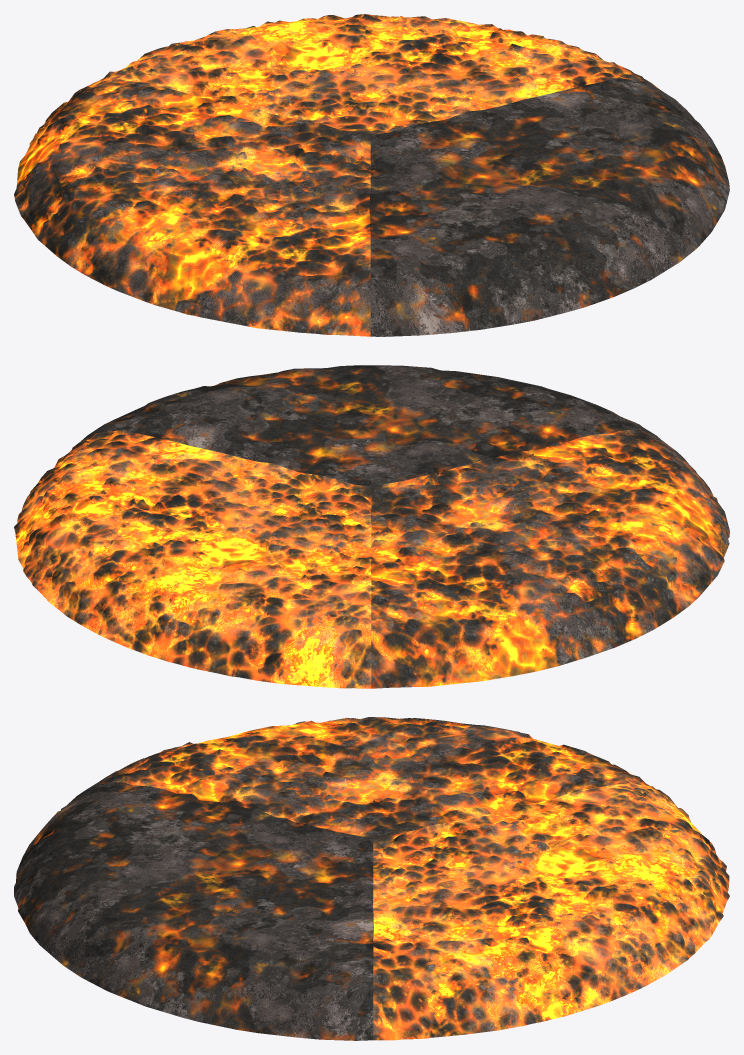
Rendered from lava.glb.
3 renders of one model, top to bottom at view 1: azimuth 30°, elevation 25°; view 2: azimuth 150°, elevation 25°; view 3: azimuth 270°, elevation 25°, orthographic.
Parts seen in each view (by area): view 1: Object002_01 - Default_0 (×3); view 2: Object002_01 - Default_0 (×3); view 3: Object002_01 - Default_0 (×3).
Boxes of the visible parts, bbox=[...] form: Object002_01 - Default_0 (×3): bbox=[14, 14, 729, 336]; Object002_01 - Default_0 (×3): bbox=[14, 365, 729, 688]; Object002_01 - Default_0 (×3): bbox=[14, 717, 729, 1040].
Bounding box in the file's own units: 135 × 11.21 × 135.
3 materials, 3 textured.
